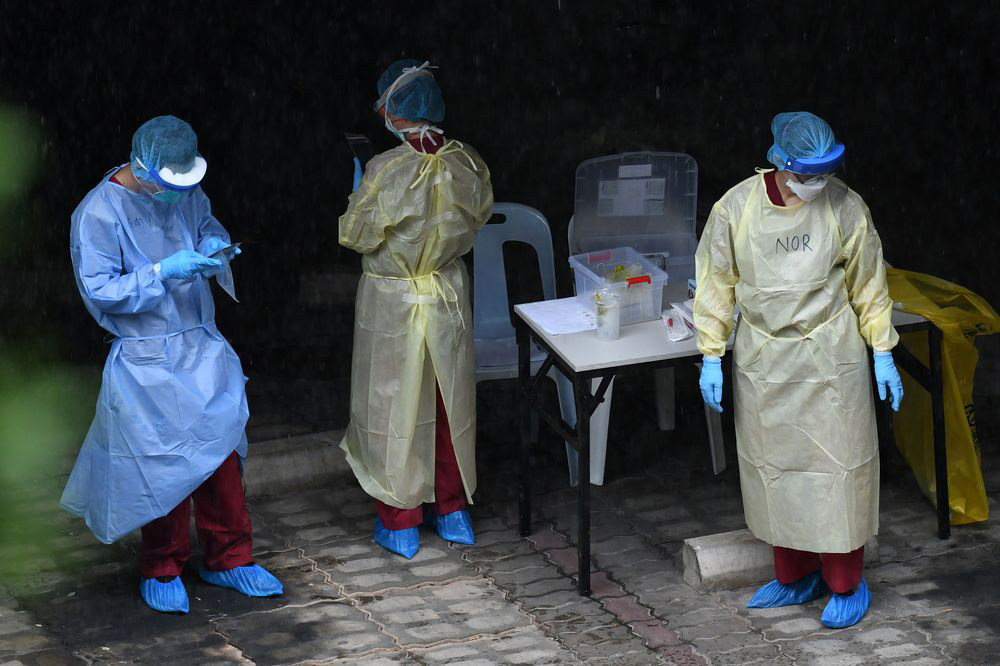Coverall: (693, 179, 895, 552), (71, 170, 245, 534), (348, 141, 480, 509)
Gloves: (866, 347, 907, 410), (154, 251, 215, 287), (699, 353, 730, 419)
